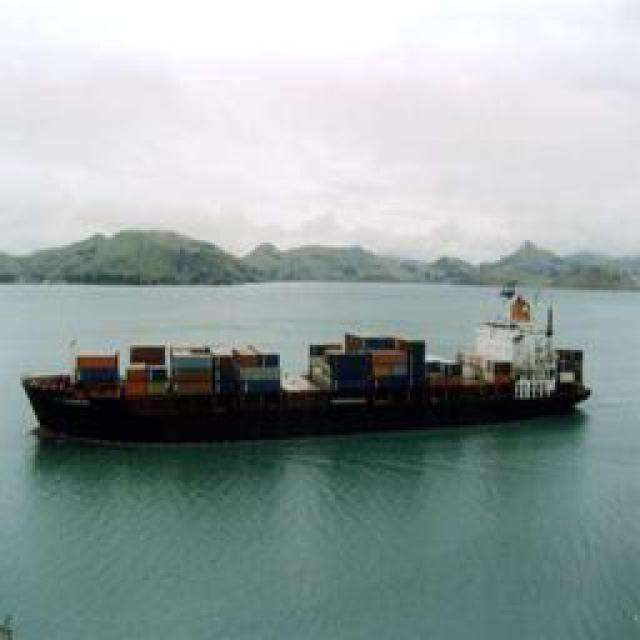Ship: (25, 289, 605, 449)
